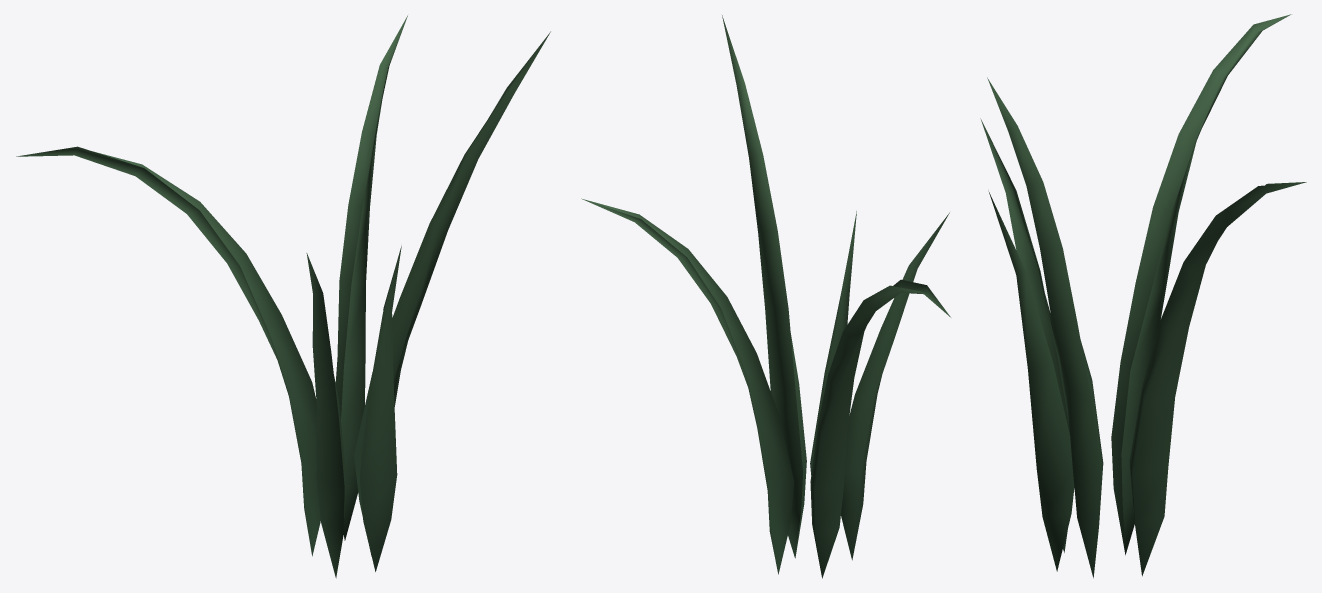
Rendered from trees-grasses-grass-blades_v5.glb.
3 renders of one model, left to right at view 1: azimuth 30°, elevation 25°; view 2: azimuth 150°, elevation 25°; view 3: azimuth 270°, elevation 25°, orthographic. The views are drawn at different scales.
Visible parts, largest first — view 1: Grass Blades_v5; view 2: Grass Blades_v5; view 3: Grass Blades_v5.
Boxes of the visible parts, x1,y1,x2,y2 form: Grass Blades_v5: (16, 15, 550, 578); Grass Blades_v5: (581, 15, 950, 578); Grass Blades_v5: (980, 14, 1306, 578).
Bounding box in the file's own units: 0.2372 × 0.3 × 0.1563.
